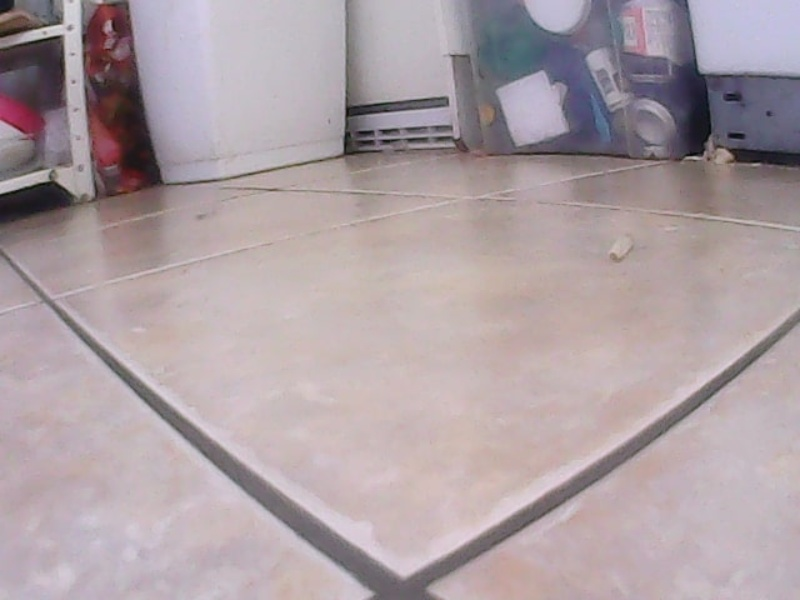cig: (603, 225, 641, 267)
